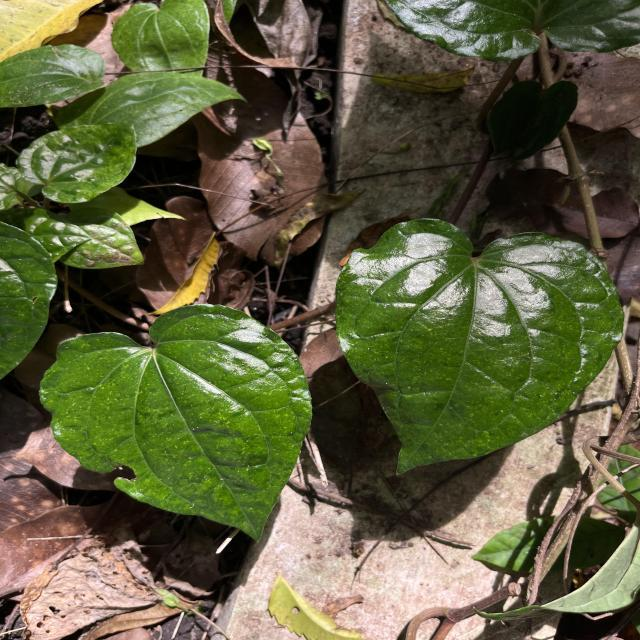Piper betle: (332, 213, 627, 480), (32, 299, 316, 547)
